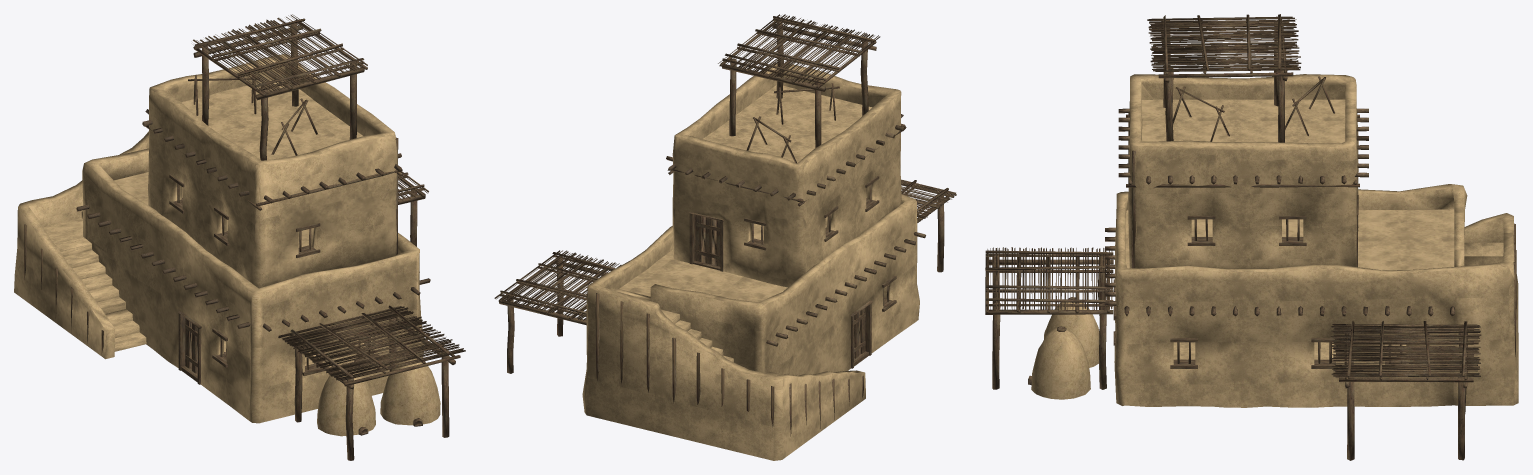
File: adb_house_6.glb
3 views of the same model, side by side, from view 1: azimuth 30°, elevation 25°; view 2: azimuth 150°, elevation 25°; view 3: azimuth 270°, elevation 25° (orthographic). The views are drawn at different scales.
Visible parts, largest first — view 1: adb_house_6; view 2: adb_house_6; view 3: adb_house_6.
Part boxes in pixels (bbox=[...]): adb_house_6: bbox=[14, 14, 465, 460]; adb_house_6: bbox=[494, 14, 956, 460]; adb_house_6: bbox=[985, 14, 1518, 460].
Bounding box in the file's own units: 5.99 × 5.49 × 8.28.
2 materials, 2 textured.
